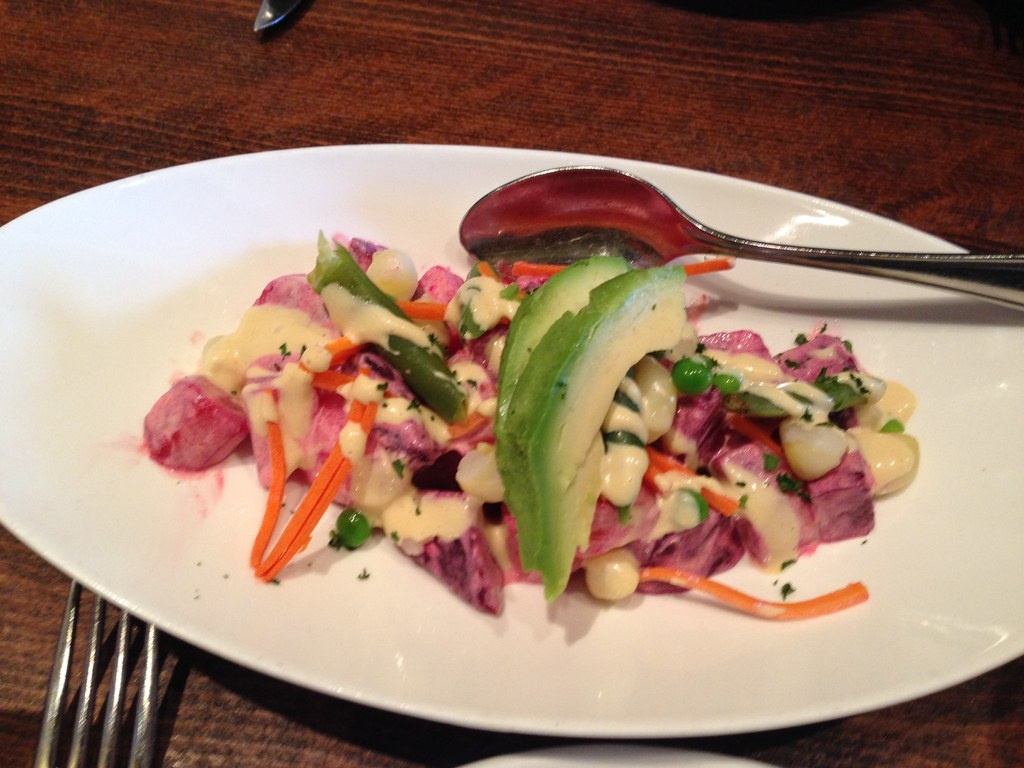salad: (140, 228, 923, 619)
